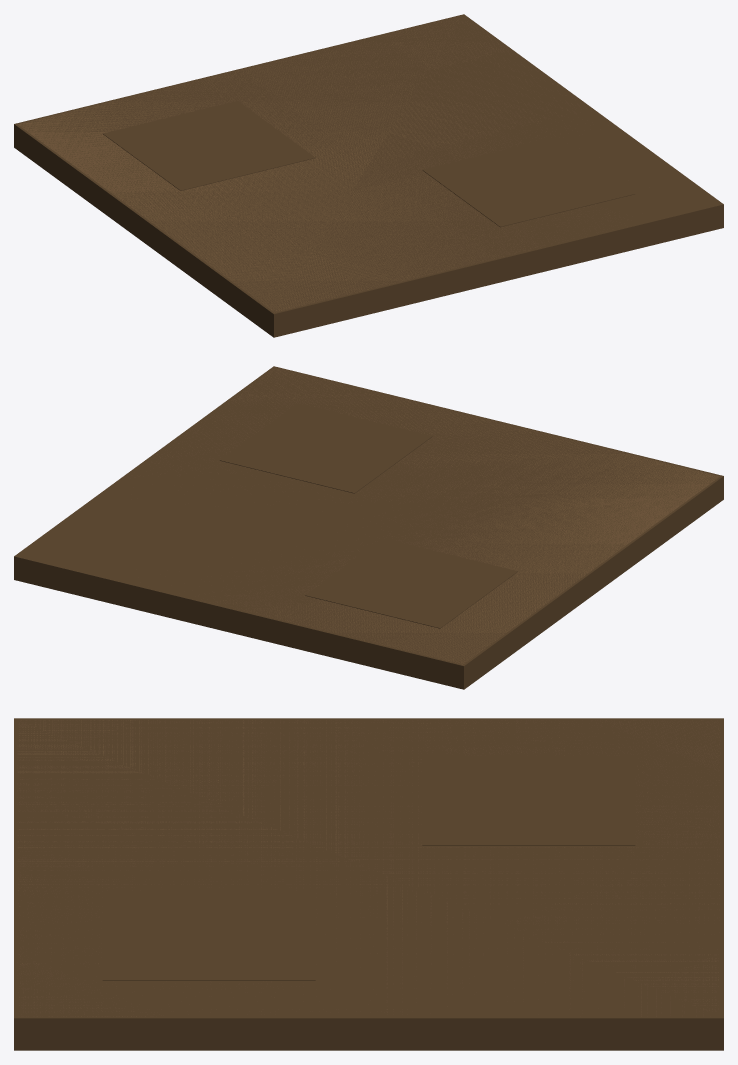
The model's file is tile_dirt.glb.
3 views of the same model, one above another, from view 1: azimuth 30°, elevation 25°; view 2: azimuth 150°, elevation 25°; view 3: azimuth 270°, elevation 25° (orthographic). The views are drawn at different scales.
Parts seen in each view (by area): view 1: tile_dirt; view 2: tile_dirt; view 3: tile_dirt.
Boxes of the visible parts, <box> form: tile_dirt: <box>14,14,723,337</box>; tile_dirt: <box>14,366,723,689</box>; tile_dirt: <box>14,718,723,1050</box>.
Bounding box in the file's own units: 2 × 0.102 × 2.
